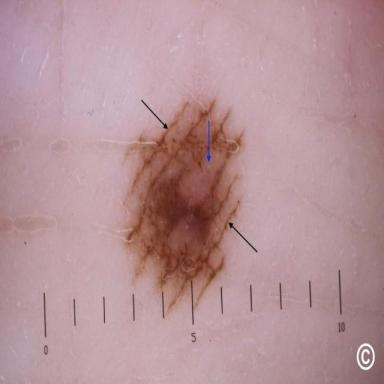Melanoma: (125, 94, 242, 309)
